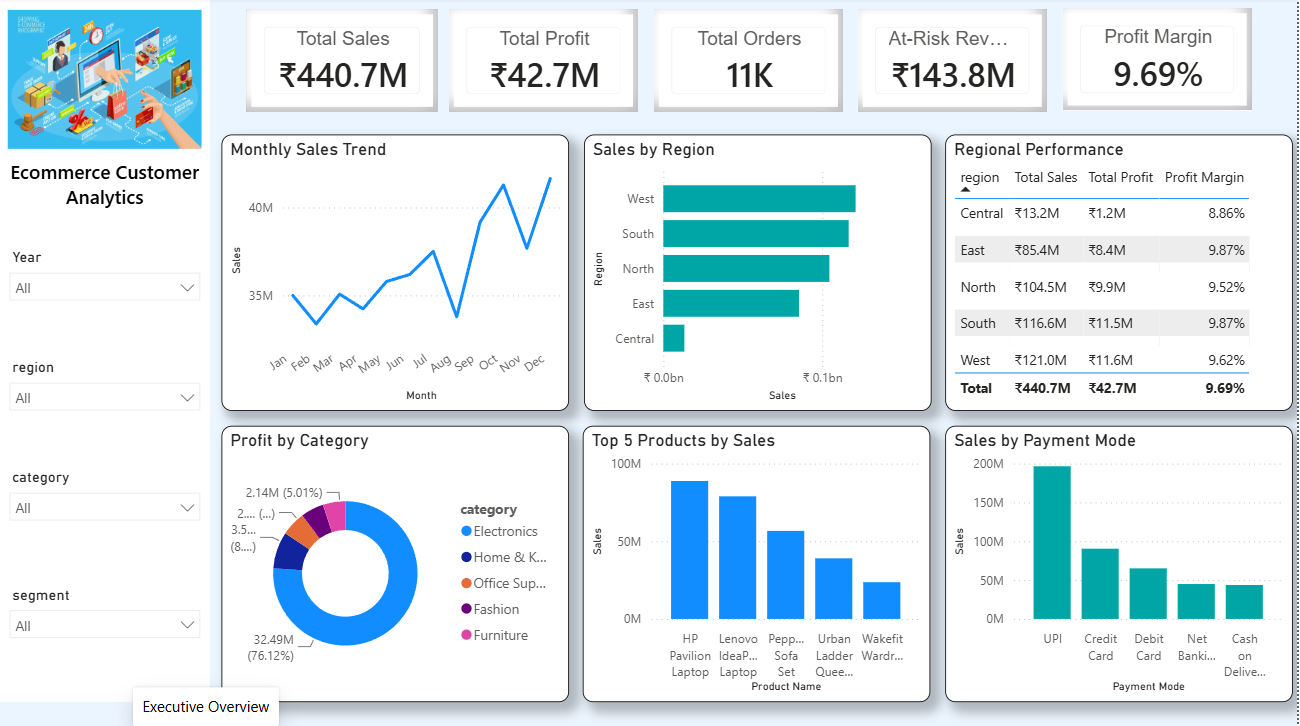

The dashboard page shown, as its layout file describes it:
{"tool":"powerbi","page":{"name":"Executive Overview","canvas":[1280,720],"ordinal":0},"visuals":[{"type":"shape","box":[9.8,0,206.7,689.7],"z":0},{"type":"image","box":[18.3,8.6,189.5,144.3],"z":1000},{"type":"textbox","box":[9.8,152.9,206.7,77],"z":2000},{"type":"cardVisual","title":"Total Sales ","fields":{"Data":["clean_orders.Total Sales Display"]},"box":[251.9,12.2,187.1,100.3],"z":3000},{"type":"cardVisual","title":"Total Sales ","fields":{"Data":["clean_orders.Total Profit"]},"box":[450,12,185,100],"z":4000},{"type":"cardVisual","title":"Total Sales ","fields":{"Data":["clean_orders.Total Orders"]},"box":[650,12,185,100],"z":5000},{"type":"cardVisual","title":"Total Sales ","fields":{"Data":["clean_orders.Revenue At Risk Display"]},"box":[850,12,185,100],"z":6000},{"type":"cardVisual","title":"Total Sales ","fields":{"Data":["clean_orders.Profit Margin"]},"box":[1050,11,185,100],"z":7000},{"type":"lineChart","title":"Monthly Sales Trend ","fields":{"Y":["Sum(clean_orders.sales)"],"Category":["clean_orders.Month Name"]},"box":[227.4,135,340,270],"z":8000},{"type":"clusteredBarChart","title":"Sales by Region","fields":{"Y":["Sum(clean_orders.sales)"],"Category":["clean_orders.region"]},"box":[582,135,340,270],"z":9000},{"type":"donutChart","title":"Profit by Category","fields":{"Category":["clean_orders.category"],"Y":["Sum(clean_orders.profit)"]},"box":[227.7,420,339.7,270],"z":10000},{"type":"clusteredColumnChart","title":"Top 5 Products by Sales ","fields":{"Y":["Sum(clean_orders.sales)"],"Category":["clean_orders.product_name"]},"box":[581,420,340,270],"z":11000},{"type":"tableEx","title":"Regional Performance","fields":{"Values":["clean_orders.region","clean_orders.Total Sales","clean_orders.Total Profit","clean_orders.Profit Margin"]},"box":[935,135,340,270],"z":12000},{"type":"columnChart","title":"Sales by Payment Mode ","fields":{"Category":["clean_orders.payment_mode"],"Y":["Sum(clean_orders.sales)"]},"box":[936,420,340,270],"z":13000},{"type":"slicer","fields":{"Values":["clean_orders.order_year"]},"box":[9.8,240.9,206.7,78.3],"z":14000},{"type":"slicer","fields":{"Values":["clean_orders.Region"]},"box":[9.8,348.5,206.7,80.7],"z":15000},{"type":"slicer","fields":{"Values":["clean_orders.category"]},"box":[9.8,456.1,206.7,83.2],"z":16000},{"type":"slicer","fields":{"Values":["churn.segment"]},"box":[9.8,571.1,206.7,111.3],"z":17000}]}

Visuals, with their boxes on the page's 1280x720 design canvas (x1, y1, x2, y2). These are canvas units, not pixel positions in the 1300x726 screenshot, which may show the page scaled, cropped or inside an application window:
shape: 10,0,216,690
image: 18,9,208,153
textbox: 10,153,216,230
"Total Sales " cardVisual: 252,12,439,112
"Total Sales " cardVisual: 450,12,635,112
"Total Sales " cardVisual: 650,12,835,112
"Total Sales " cardVisual: 850,12,1035,112
"Total Sales " cardVisual: 1050,11,1235,111
"Monthly Sales Trend " lineChart: 227,135,567,405
"Sales by Region" clusteredBarChart: 582,135,922,405
"Profit by Category" donutChart: 228,420,567,690
"Top 5 Products by Sales " clusteredColumnChart: 581,420,921,690
"Regional Performance" tableEx: 935,135,1275,405
"Sales by Payment Mode " columnChart: 936,420,1276,690
slicer - clean_orders.order_year: 10,241,216,319
slicer - clean_orders.Region: 10,348,216,429
slicer - clean_orders.category: 10,456,216,539
slicer - churn.segment: 10,571,216,682
